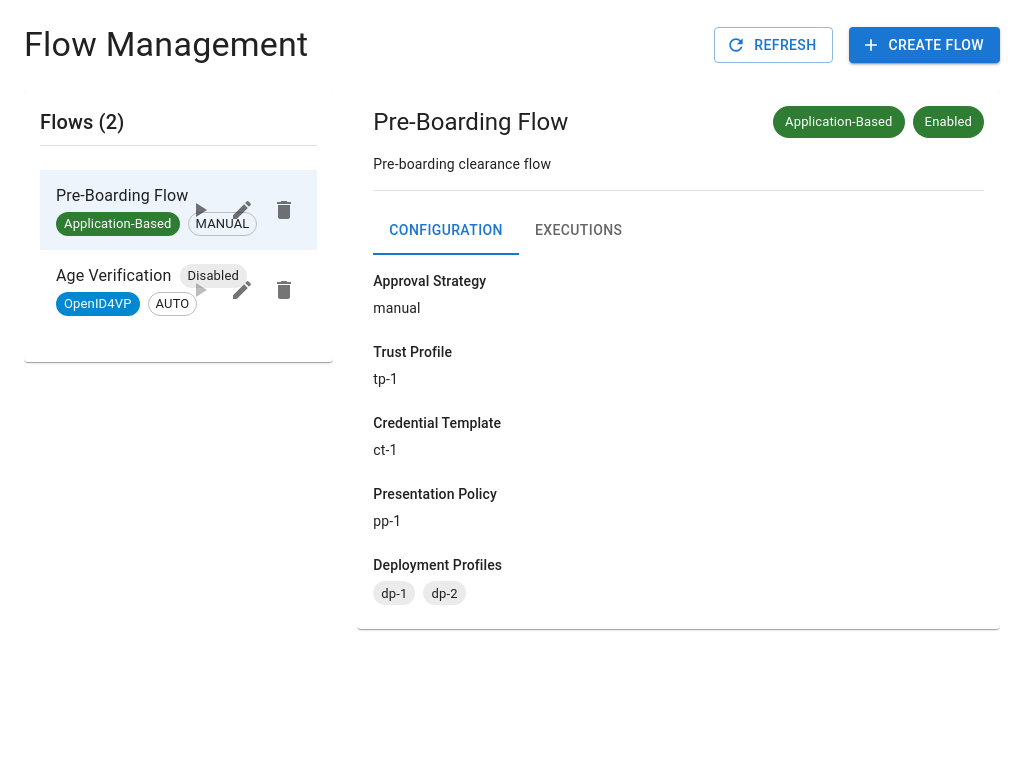
Test: FlowsPage › should switch between Configuration and Executions tabs
The image size is (1024, 768).
expect the heading "Approval Strategy" is shown: met, box [373, 273, 486, 289]
// Click Executions tab
Click the tab "Executions".
click(579, 231)  # box [519, 207, 638, 255]
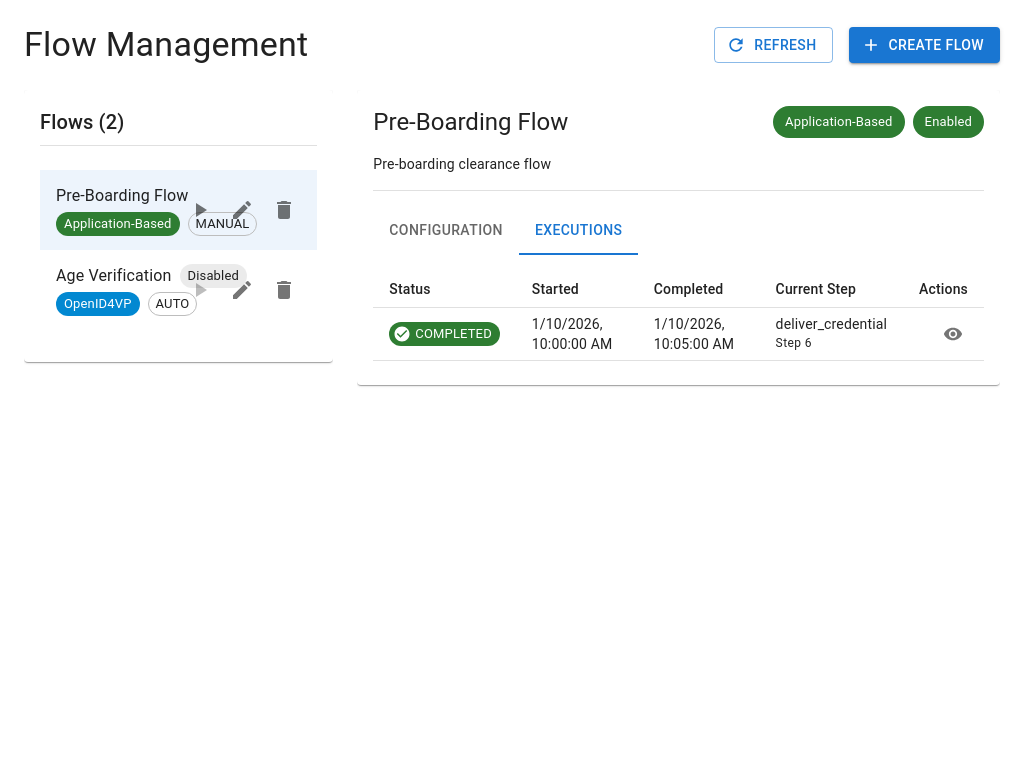
expect the heading "Approval Strategy" is gone: met
